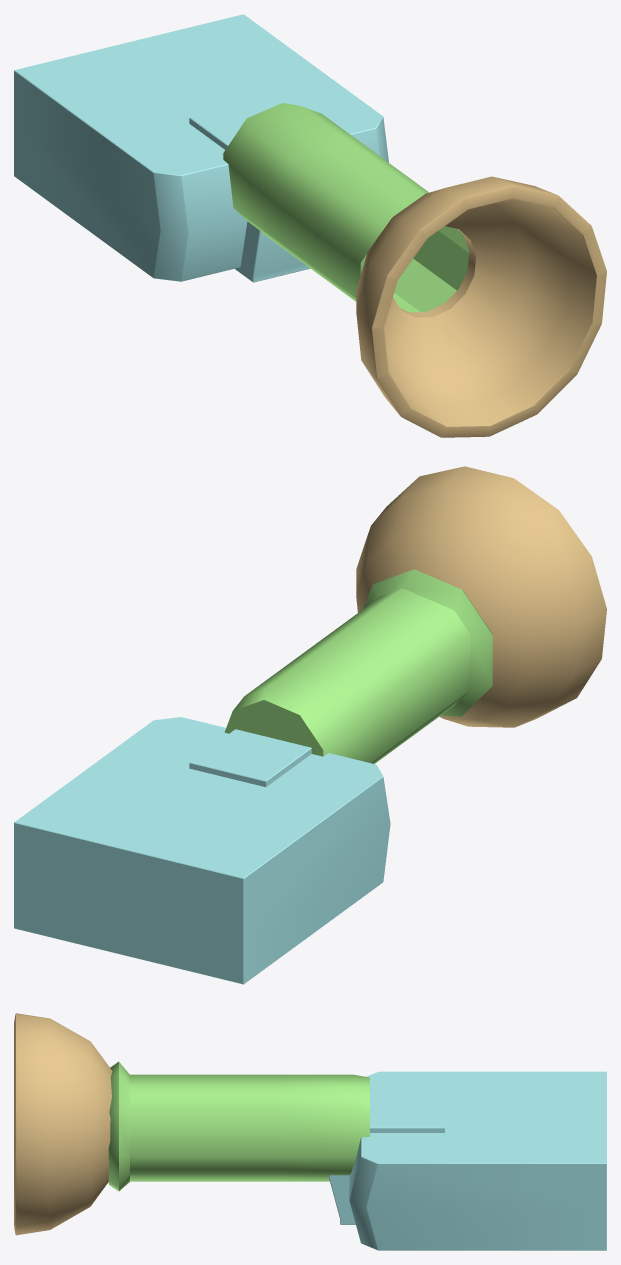
File: Blue_Tank_Turret.fbx
3 views of the same model, one above another, from view 1: azimuth 30°, elevation 25°; view 2: azimuth 150°, elevation 25°; view 3: azimuth 270°, elevation 25° (orthographic). The views are drawn at different scales.
Visible parts, largest first — view 1: Tank_Cockpit, Tank_GunCup, Tank_GunNeck; view 2: Tank_Cockpit, Tank_GunCup, Tank_GunNeck; view 3: Tank_Cockpit, Tank_GunNeck, Tank_GunCup.
Part boxes in pixels (left/top/right/bottom): Tank_Cockpit: left=14, top=14, right=388, bottom=282; Tank_GunCup: left=356, top=176, right=606, bottom=437; Tank_GunNeck: left=223, top=103, right=469, bottom=312; Tank_Cockpit: left=14, top=717, right=390, bottom=984; Tank_GunCup: left=356, top=466, right=606, bottom=727; Tank_GunNeck: left=224, top=569, right=492, bottom=763; Tank_Cockpit: left=328, top=1071, right=606, bottom=1250; Tank_GunNeck: left=108, top=1061, right=369, bottom=1191; Tank_GunCup: left=14, top=1013, right=112, bottom=1235.
Bounding box in the file's own units: 78.19 × 77.76 × 208.
